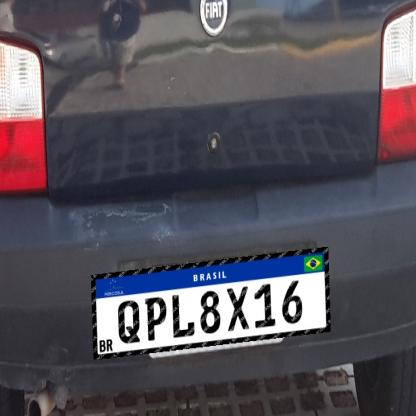PlacaM: (91, 247, 331, 359)
